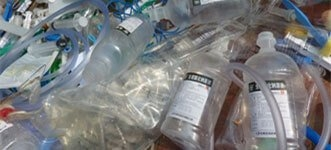plastic: (231, 26, 315, 150), (154, 36, 239, 150), (66, 10, 167, 86)
